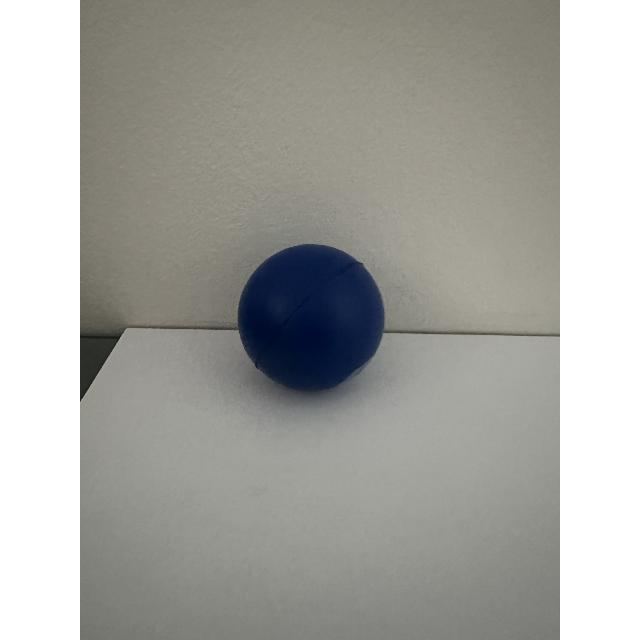blue_ball: (234, 235, 398, 408)
